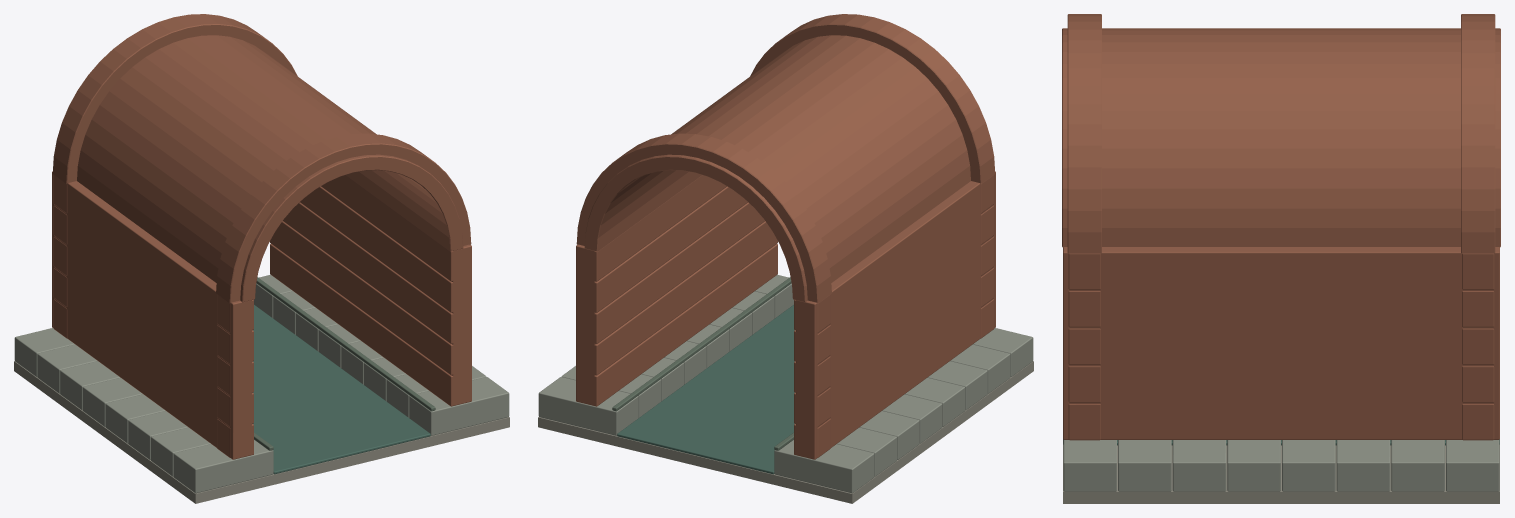
File: undercity-sewers-and-thieves-den-egg-section-tunnel-1a8d0fbe__25009.glb
The picture shows the model from 3 angles, left to right: view 1: azimuth 30°, elevation 25°; view 2: azimuth 150°, elevation 25°; view 3: azimuth 270°, elevation 25°; orthographic projection. The views are drawn at different scales.
Parts seen in each view (by area): view 1: egg-section-tunnel; view 2: egg-section-tunnel; view 3: egg-section-tunnel.
Part boxes in pixels (<box>): egg-section-tunnel: <box>14,14,509,503</box>; egg-section-tunnel: <box>538,14,1033,503</box>; egg-section-tunnel: <box>1062,14,1500,503</box>.
Bounding box in the file's own units: 4 × 3.86 × 4.02.
